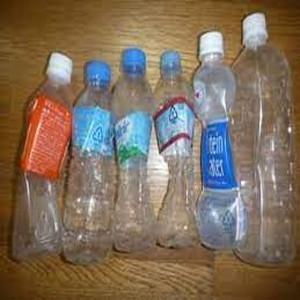Plastic: (231, 14, 297, 267), (191, 32, 249, 251), (21, 53, 71, 266), (62, 58, 112, 260), (152, 47, 195, 249), (114, 47, 156, 249)
